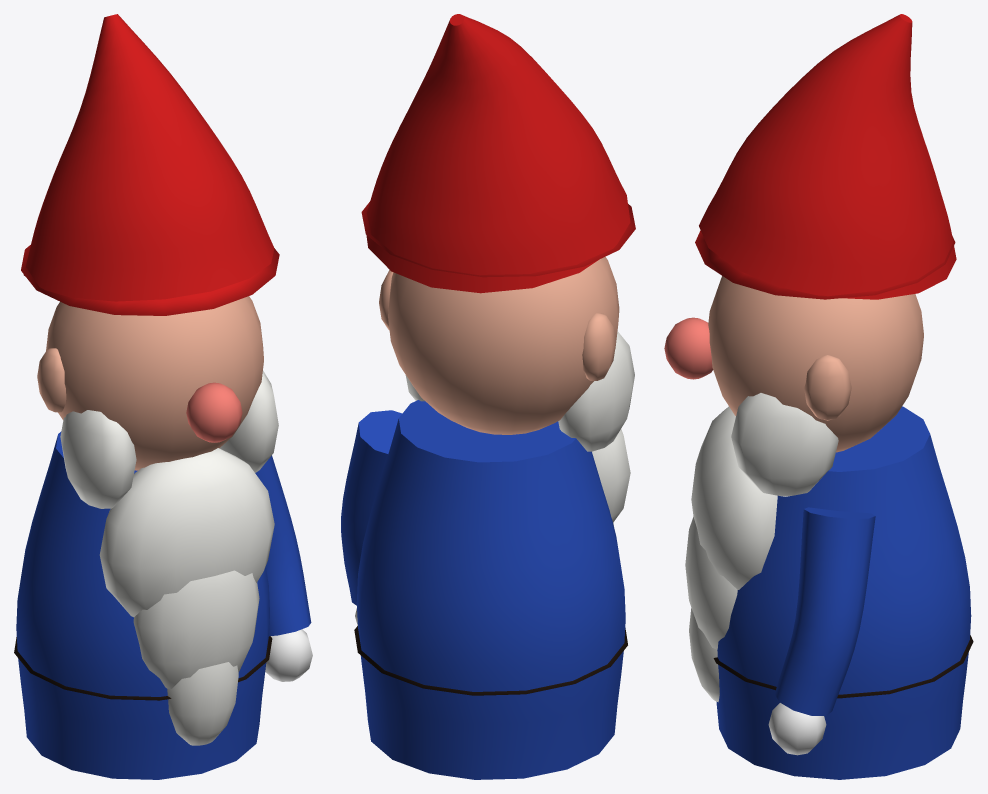
Rendered from gnome_body.obj.
The picture shows the model from 3 angles, left to right: view 1: azimuth 30°, elevation 25°; view 2: azimuth 150°, elevation 25°; view 3: azimuth 270°, elevation 25°; orthographic projection. The views are drawn at different scales.
Visible parts, largest first — view 1: part14, part0, part5, part9, part10, part13, part3, part11, part15, part12, part8, part4 (+2 smaller); view 2: part0, part14, part5, part3, part13, part9, part7, part1, part15; view 3: part0, part14, part5, part3, part9, part12, part10, part6, part8, part15, part4, part11 (+1 smaller).
Boxes of the visible parts, <box> form: part14: <box>23,14,274,301</box>; part0: <box>16,431,269,779</box>; part5: <box>46,296,263,470</box>; part9: <box>99,448,274,617</box>; part10: <box>133,570,259,688</box>; part13: <box>60,410,136,508</box>; part3: <box>255,455,311,636</box>; part11: <box>167,662,238,745</box>; part15: <box>21,245,279,315</box>; part12: <box>219,370,278,472</box>; part8: <box>186,382,242,442</box>; part4: <box>265,629,312,681</box>; part0: <box>356,400,625,779</box>; part14: <box>366,14,630,293</box>; part5: <box>388,256,619,434</box>; part3: <box>341,410,402,605</box>; part13: <box>558,331,634,451</box>; part9: <box>592,429,630,522</box>; part7: <box>582,313,615,380</box>; part1: <box>354,626,627,695</box>; part15: <box>361,201,635,277</box>; part0: <box>716,406,971,779</box>; part14: <box>699,14,956,299</box>; part5: <box>708,276,923,452</box>; part3: <box>775,507,875,715</box>; part9: <box>691,406,777,589</box>; part12: <box>731,393,838,496</box>; part10: <box>685,517,737,649</box>; part6: <box>804,355,851,420</box>; part8: <box>664,317,713,379</box>; part15: <box>695,230,955,299</box>; part4: <box>768,703,826,755</box>; part11: <box>689,608,719,702</box>.
Bounding box in the file's own units: 0.2561 × 0.6529 × 0.2563.
